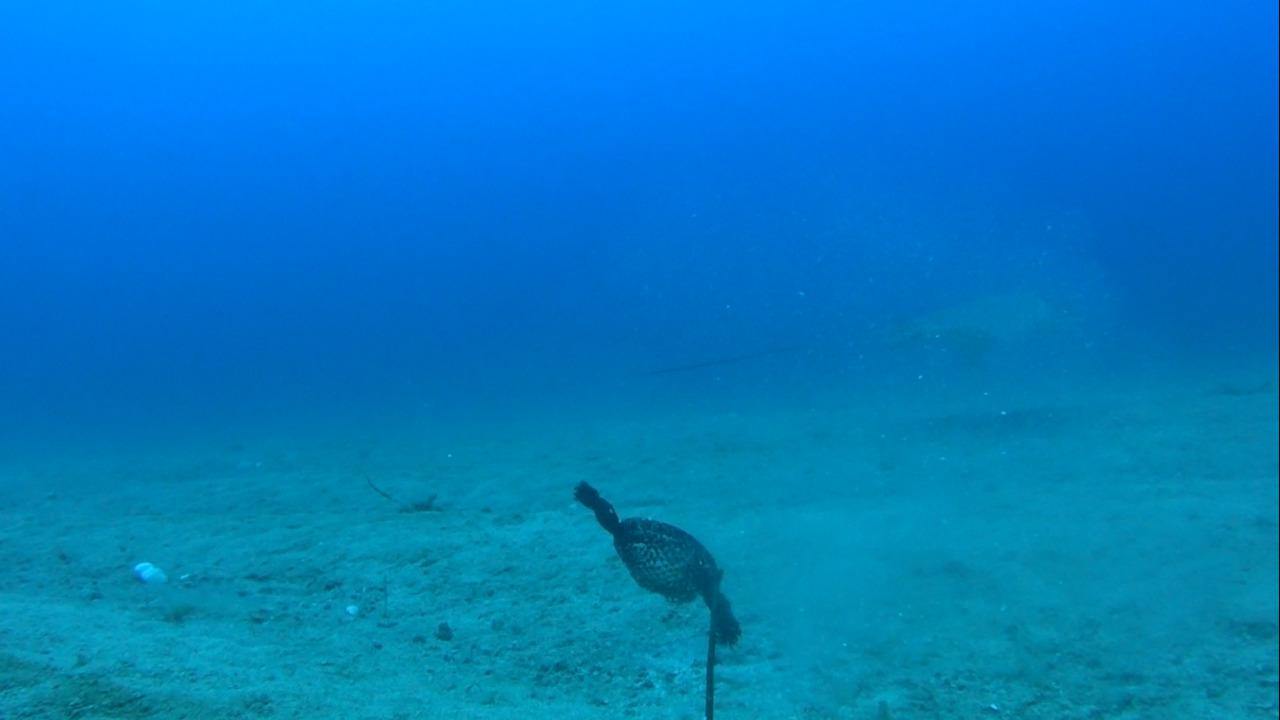myliobatis: (631, 268, 1097, 394)
